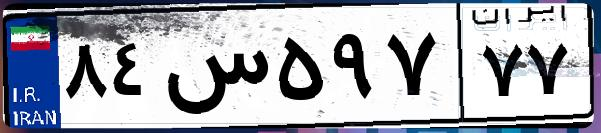4: (110, 28, 158, 98)
5: (270, 28, 330, 110)
7: (385, 28, 445, 110), (475, 38, 525, 113), (525, 38, 570, 115)
8: (57, 26, 110, 100)
9: (330, 28, 385, 110)
س: (158, 20, 270, 120)
